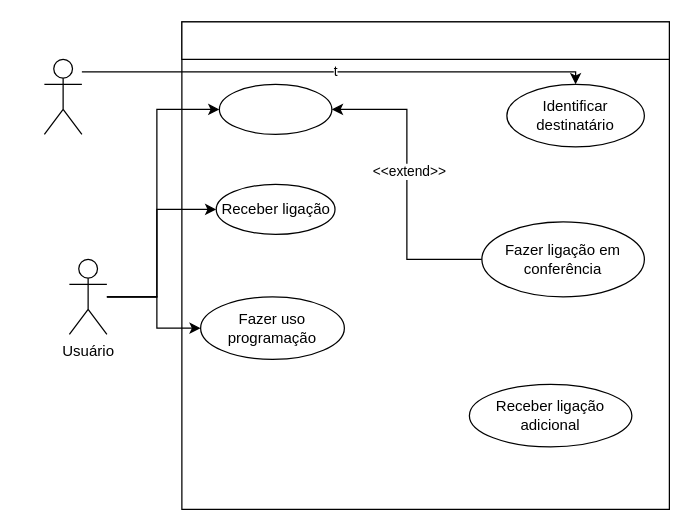
Some shapes in this 691 by 531 pixel diagram are drawn without their labels. The shapes that lost their labels are listed below. From the top down, each one's centre as x and y in pixels, then its label:
At point (425, 40): "Telefone Celular".
At point (62, 96): "Rede celular".
At point (275, 108): "Fazer ligação".
